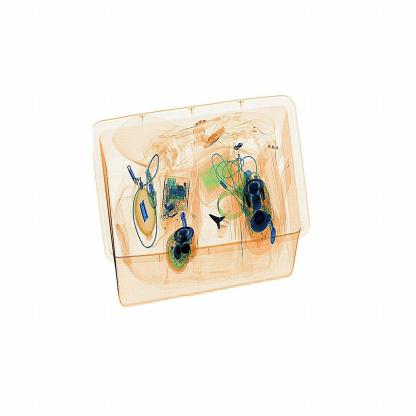gun: (202, 206, 237, 242)
